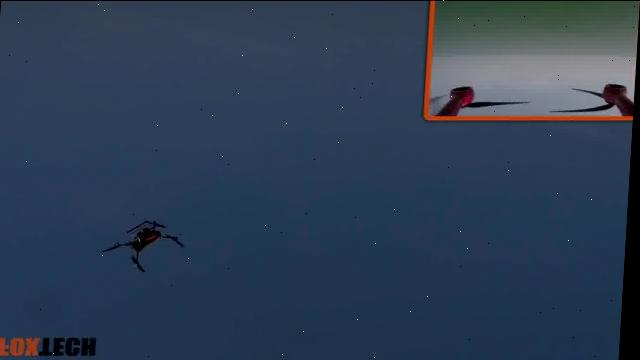drone: (104, 212, 197, 280)
